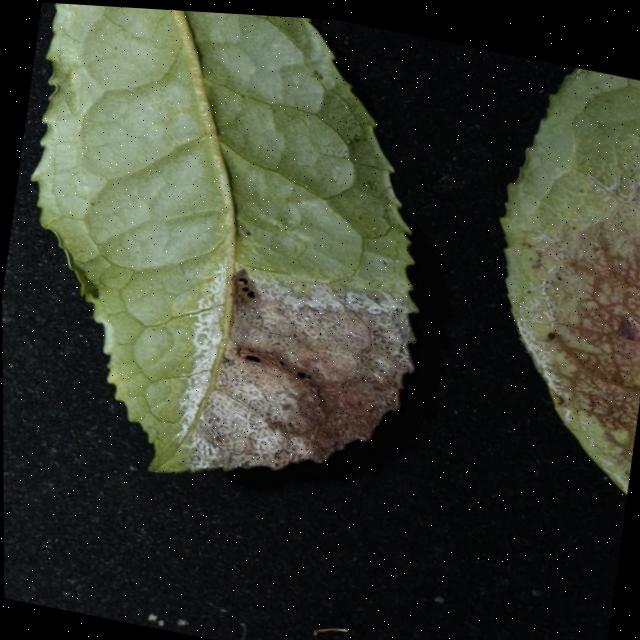Tea exobasidium blight: (161, 251, 428, 511)
